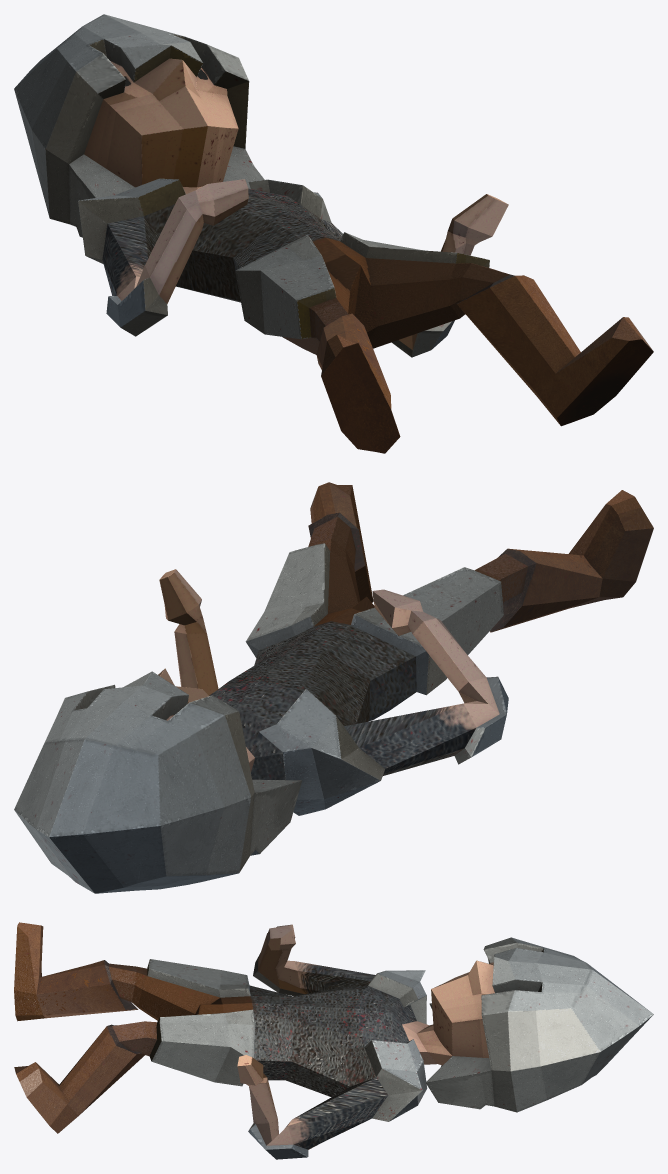
File: Walk_Soldier_9.obj
3 renders of one model, top to bottom at view 1: azimuth 30°, elevation 25°; view 2: azimuth 150°, elevation 25°; view 3: azimuth 270°, elevation 25°, orthographic. The views are drawn at different scales.
Visible parts, largest first — view 1: Soldado_LowPolySTD; view 2: Soldado_LowPolySTD; view 3: Soldado_LowPolySTD.
Part boxes in pixels (left/top/right/bottom): Soldado_LowPolySTD: left=14, top=14, right=653, bottom=453; Soldado_LowPolySTD: left=14, top=482, right=653, bottom=893; Soldado_LowPolySTD: left=14, top=922, right=653, bottom=1159.
Size of the model in its own units: 0.7693 by 0.4604 by 1.59.
